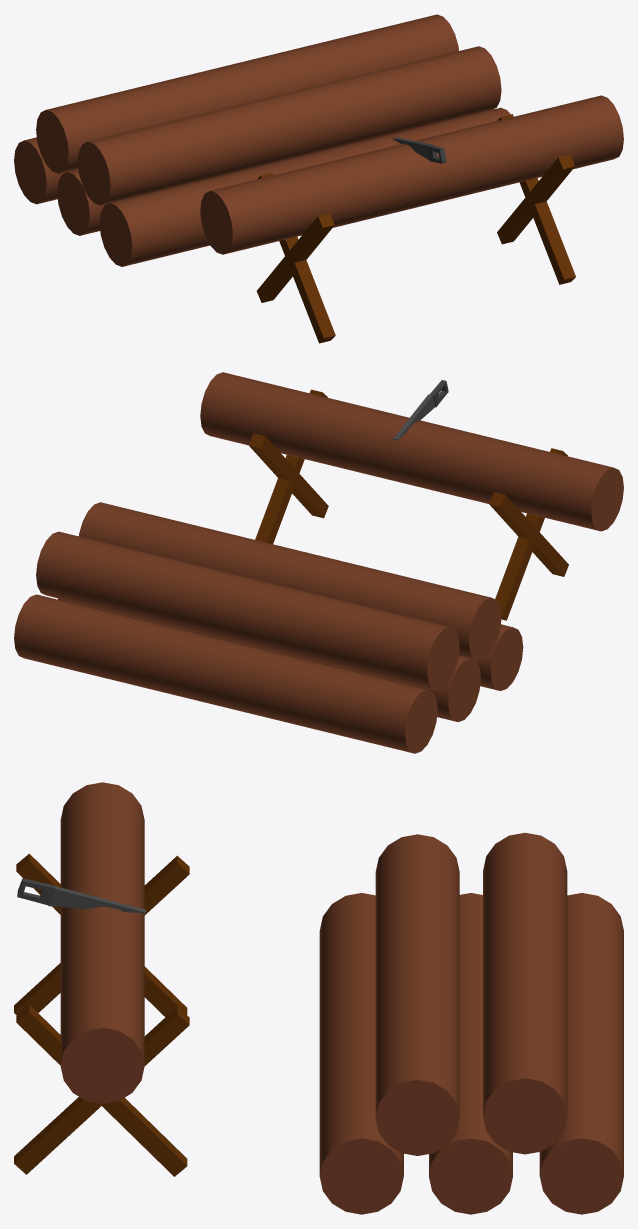
Rendered from Sawmill.fbx.
3 views of the same model, one above another, from view 1: azimuth 30°, elevation 25°; view 2: azimuth 150°, elevation 25°; view 3: azimuth 270°, elevation 25° (orthographic). The views are drawn at different scales.
Parts seen in each view (by area): view 1: Sawmill; view 2: Sawmill; view 3: Sawmill.
Part boxes in pixels (x1,y1,x2,y2): Sawmill: [14, 14, 623, 343]; Sawmill: [14, 372, 623, 753]; Sawmill: [14, 782, 623, 1214].
Size of the model in its own units: 1380 by 565 by 1449.
